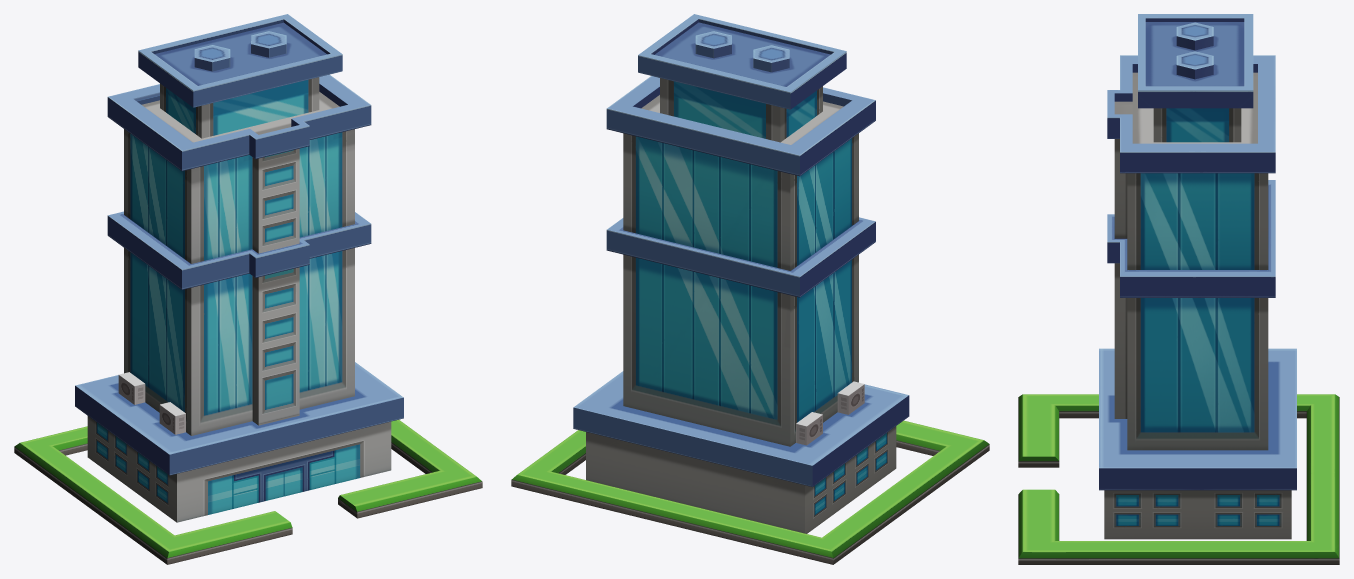
Rendered from shangsha.FBX.
3 renders of one model, left to right at view 1: azimuth 30°, elevation 25°; view 2: azimuth 150°, elevation 25°; view 3: azimuth 270°, elevation 25°, orthographic. The views are drawn at different scales.
Parts seen in each view (by area): view 1: shangsha; view 2: shangsha; view 3: shangsha.
Part boxes in pixels (left/top/right/bottom): shangsha: left=14, top=14, right=482, bottom=564; shangsha: left=511, top=14, right=989, bottom=564; shangsha: left=1018, top=14, right=1339, bottom=564.
Size of the model in its own units: 1536 by 1947 by 1292.
1 material, 1 textured.
